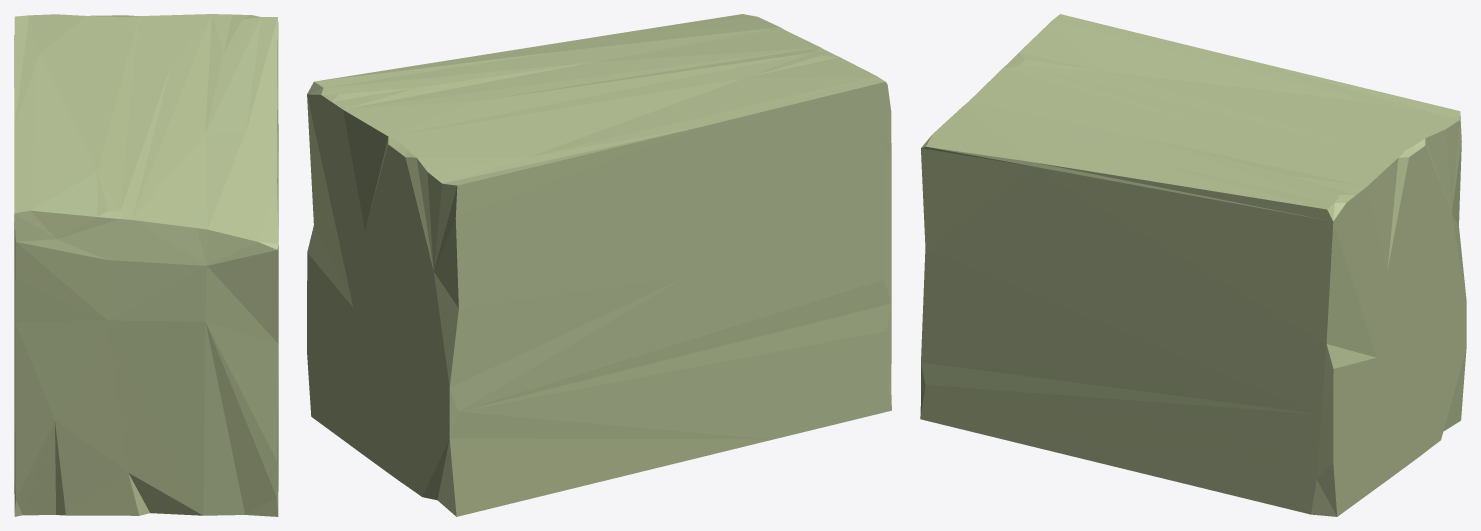
File: ground_21.gltf
3 views of the same model, side by side, from view 1: azimuth 30°, elevation 25°; view 2: azimuth 150°, elevation 25°; view 3: azimuth 270°, elevation 25° (orthographic). The views are drawn at different scales.
Visible parts, largest first — view 1: ROTC; view 2: ROTC; view 3: ROTC.
Boxes of the visible parts, x1,y1,x2,y2 form: ROTC: (14,14,278,516); ROTC: (307,14,891,516); ROTC: (920,14,1466,516).
Size of the model in its own units: 8.82 by 6.42 by 10.26.
